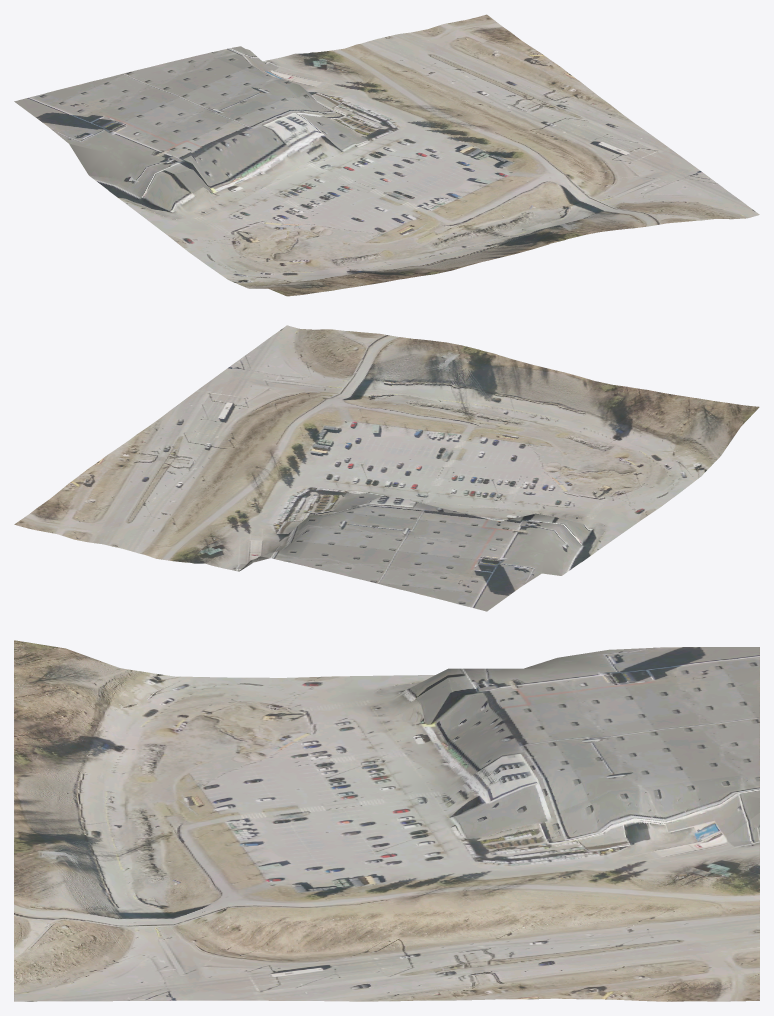
The model's file is CM_Terrain_24490458_6819999.fbx.
3 renders of one model, top to bottom at view 1: azimuth 30°, elevation 25°; view 2: azimuth 150°, elevation 25°; view 3: azimuth 270°, elevation 25°, orthographic. The views are drawn at different scales.
Visible parts, largest first — view 1: CM_Terrain_24490458_6819999_LOD0; view 2: CM_Terrain_24490458_6819999_LOD0; view 3: CM_Terrain_24490458_6819999_LOD0.
Part boxes in pixels (x1,y1,x2,y2): CM_Terrain_24490458_6819999_LOD0: (14,14,759,296); CM_Terrain_24490458_6819999_LOD0: (14,325,759,611); CM_Terrain_24490458_6819999_LOD0: (14,640,759,1001).
Size of what is drawn, in the model's own units: 205 by 14.58 by 205.
